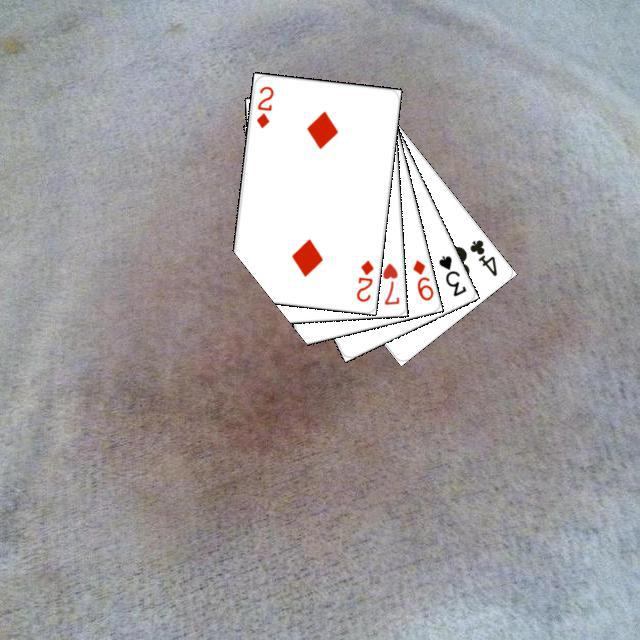2d: (351, 255, 375, 303), (251, 81, 275, 129)
3s: (433, 250, 468, 298)
4c: (464, 235, 499, 278)
7h: (378, 258, 401, 306)
9d: (408, 255, 435, 302)
